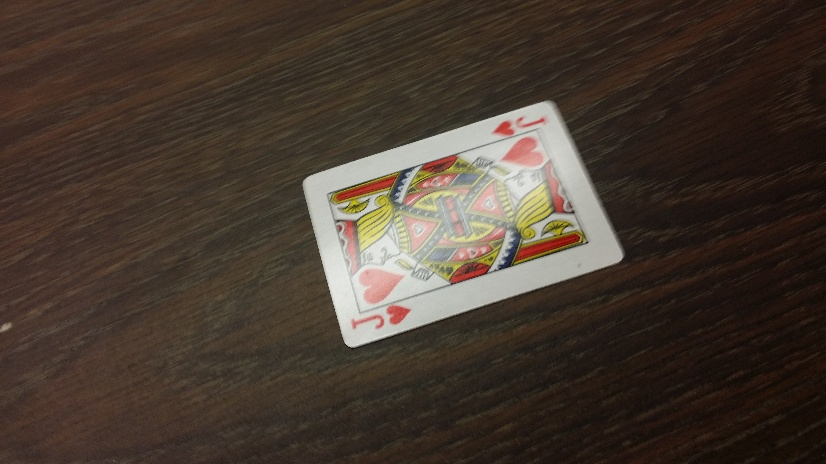Hj: (348, 305, 410, 331), (492, 113, 551, 138)
